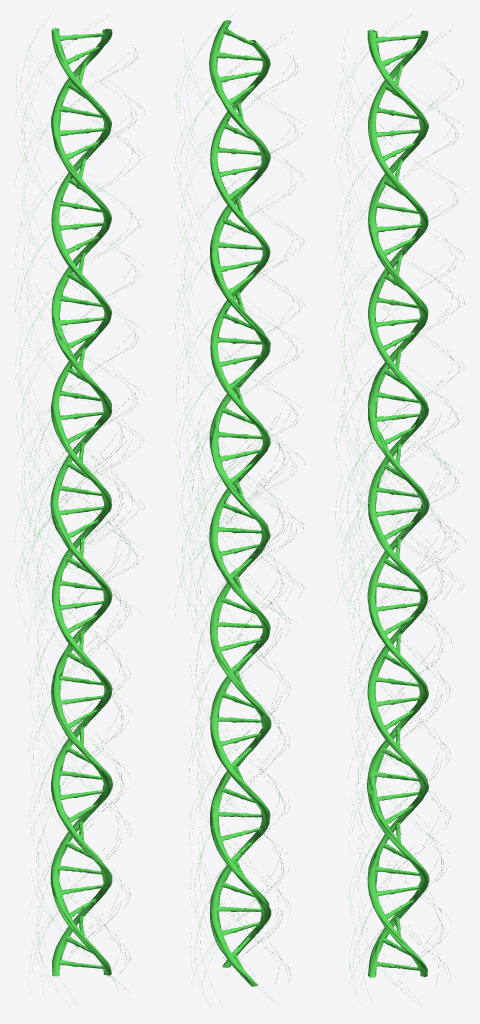
File: DNA_01.obj
The picture shows the model from 3 angles, left to right: view 1: azimuth 90°, elevation 25°; view 2: azimuth 210°, elevation 25°; view 3: azimuth 270°, elevation 25°; orthographic projection.
Visible parts, largest first — view 1: Cylinder008, Line011; view 2: Cylinder008, Line011; view 3: Cylinder008, Line011.
Boxes of the visible parts, left/top/right/bottom form: Cylinder008: left=50, top=28, right=112, bottom=976; Line011: left=14, top=15, right=145, bottom=1007; Cylinder008: left=209, top=20, right=271, bottom=986; Line011: left=174, top=14, right=305, bottom=1007; Cylinder008: left=367, top=29, right=429, bottom=977; Line011: left=334, top=15, right=465, bottom=1007.
Size of the model in its own units: 352 by 2830 by 352.
